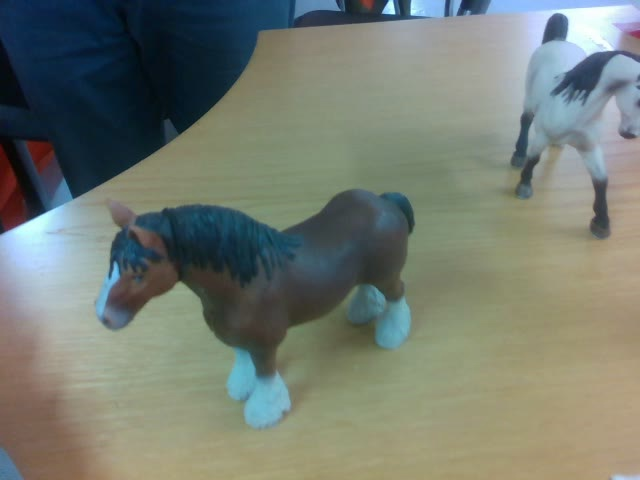toy: (90, 188, 417, 426)
